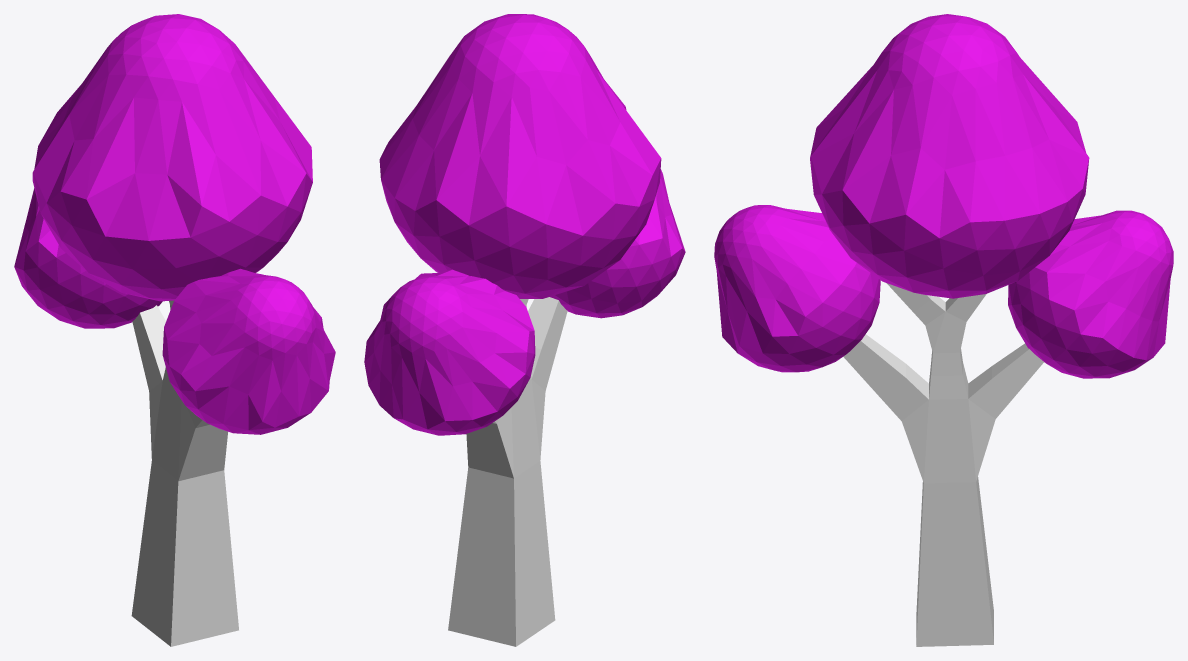
File: SweerTrees2.fbx
3 renders of one model, left to right at view 1: azimuth 30°, elevation 25°; view 2: azimuth 150°, elevation 25°; view 3: azimuth 270°, elevation 25°, orthographic.
Parts seen in each view (by area): view 1: Icosphere.016, Cube.004, Icosphere.017, Icosphere.020; view 2: Icosphere.016, Cube.004, Icosphere.020, Icosphere.017; view 3: Icosphere.016, Cube.004, Icosphere.017, Icosphere.020.
Boxes of the visible parts, <box> form: Icosphere.016: <box>32,14,312,301</box>; Cube.004: <box>131,300,238,646</box>; Icosphere.017: <box>162,268,335,434</box>; Icosphere.020: <box>14,188,162,328</box>; Icosphere.016: <box>379,14,661,298</box>; Cube.004: <box>448,297,567,646</box>; Icosphere.020: <box>364,269,535,435</box>; Icosphere.017: <box>550,169,685,318</box>; Icosphere.016: <box>810,14,1089,298</box>; Cube.004: <box>843,283,1043,646</box>; Icosphere.017: <box>714,205,880,372</box>; Icosphere.020: <box>1008,210,1173,378</box>.
Size of the model in its own units: 1.51 by 3.58 by 2.48.
